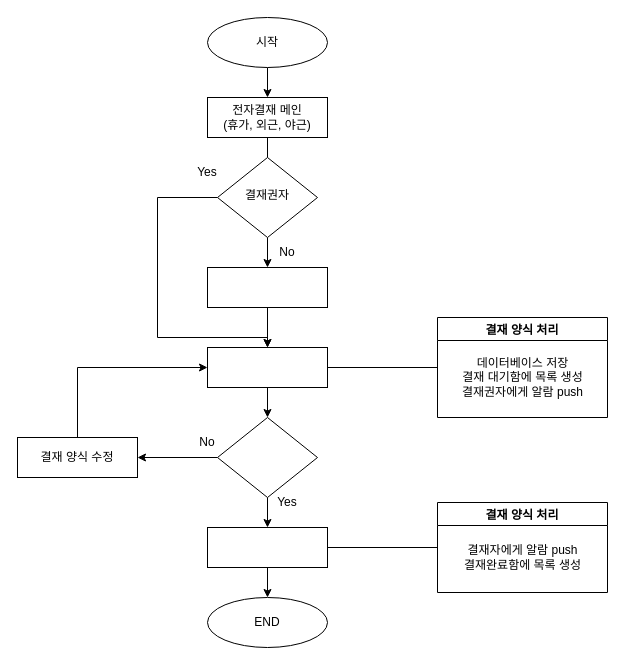
Some shapes in this 625 by 665 pixel diagram are drawn without their labels. Here are the shapes that lost their labels. From the top down, the centre of each, then its label:
(267,287): 양식 작성
(267,367): 결재대기
(267,457): 결재 처리 (승인 / 반려)
(267,547): 전자결재 완료
